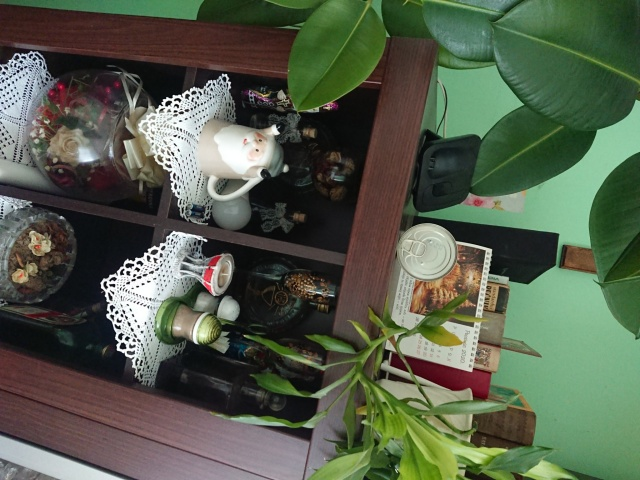Podravka Luncheon Meat 150g: (394, 220, 461, 283)
